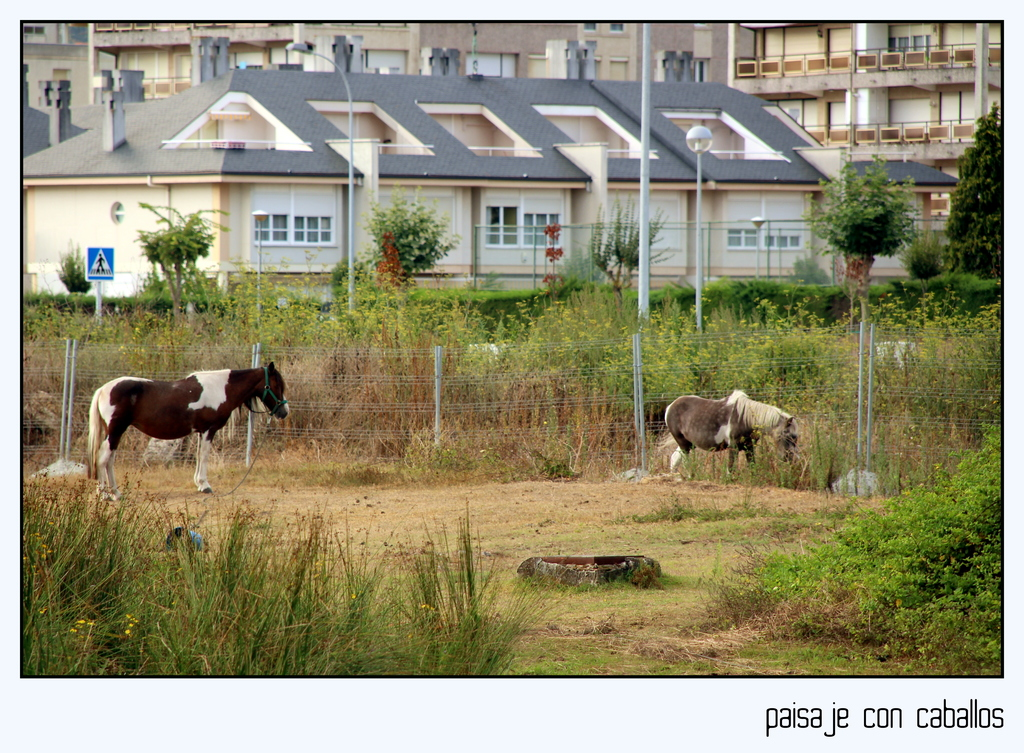horse: (82, 362, 289, 506), (661, 386, 796, 476)
